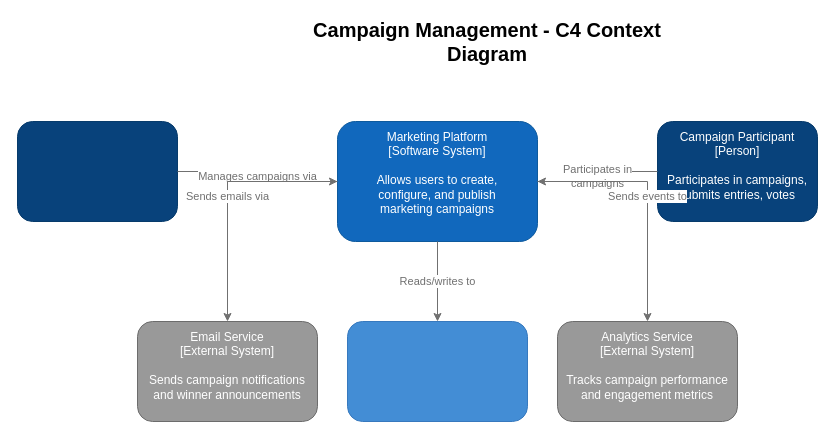
Image size: 835x439. Some labels were removed from this diagram. The centre of each missing label's shape, as x and y in pixels:
"Marketing User [Person] Creates and manages marketing campaigns" belongs at pixel 97 171.
"SQL Server [Database] Stores campaign data, entries, participants" belongs at pixel 437 371.
